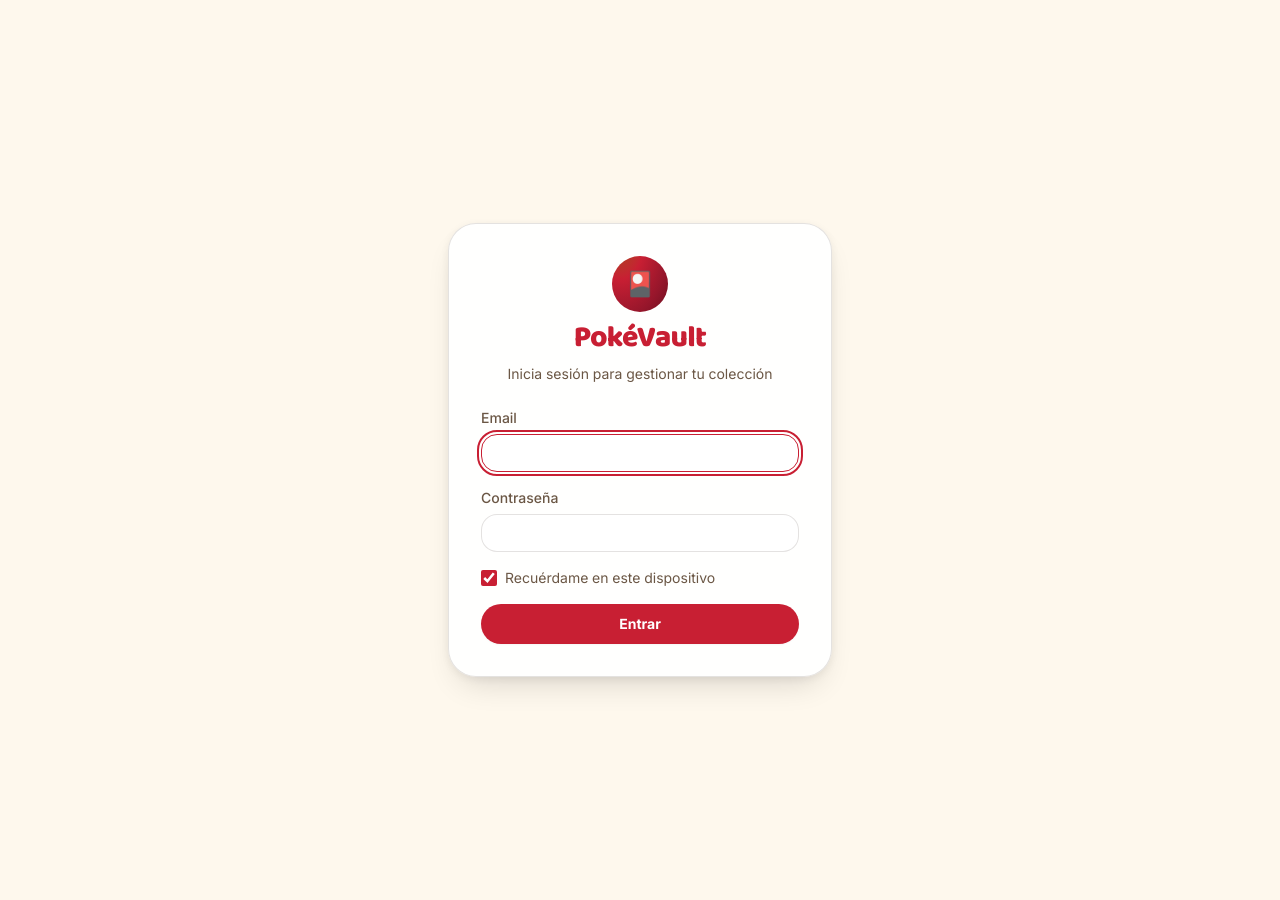
Test: App — puerta de login › iniciar sesión correctamente da paso a la app
Type "jadueno@example.com" into the field labelled "Email" at (640, 453), box top-left (481, 434), bottom-right (799, 472)
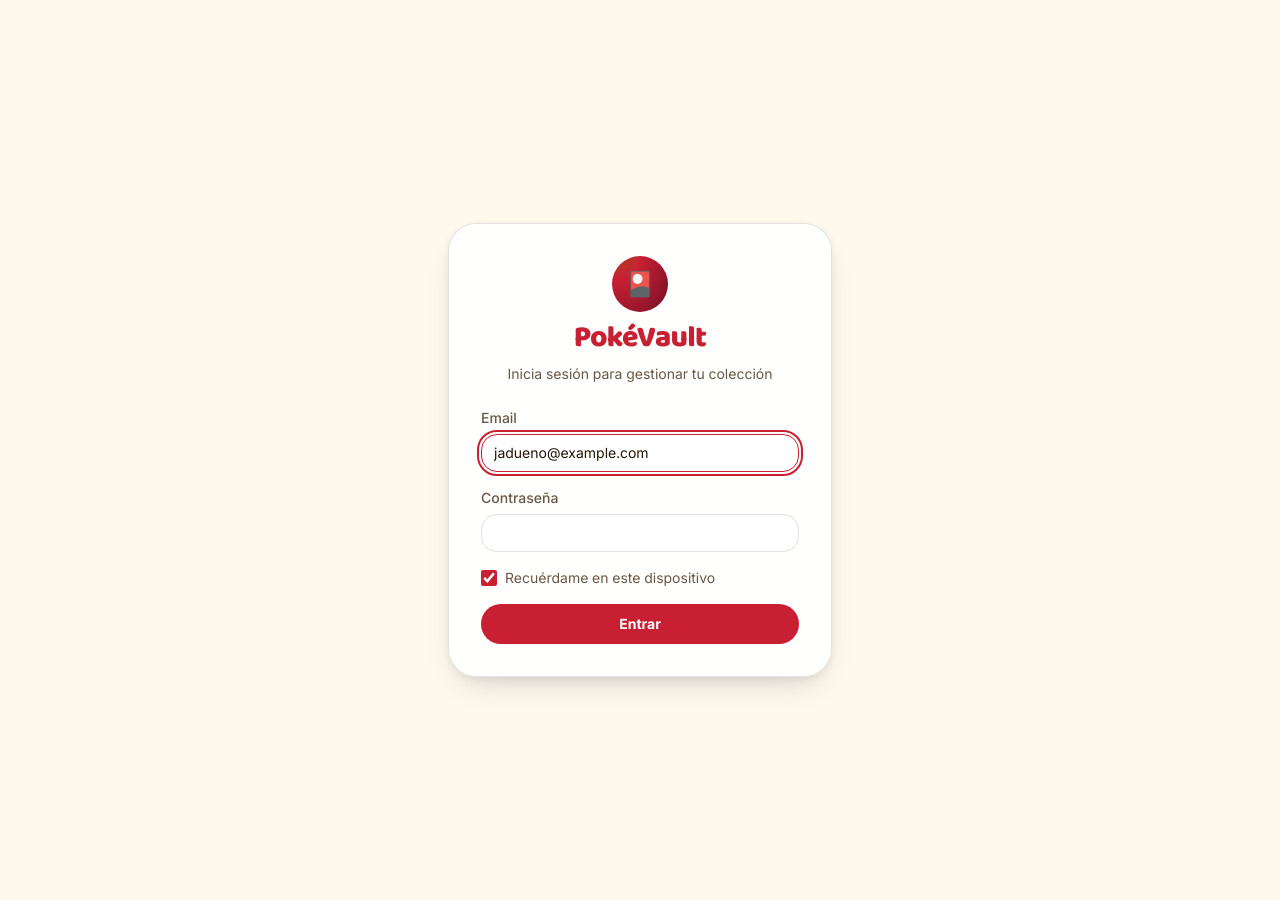
Type "correcta" into the password field labelled "Contraseña" at (640, 533), box top-left (481, 514), bottom-right (799, 552)
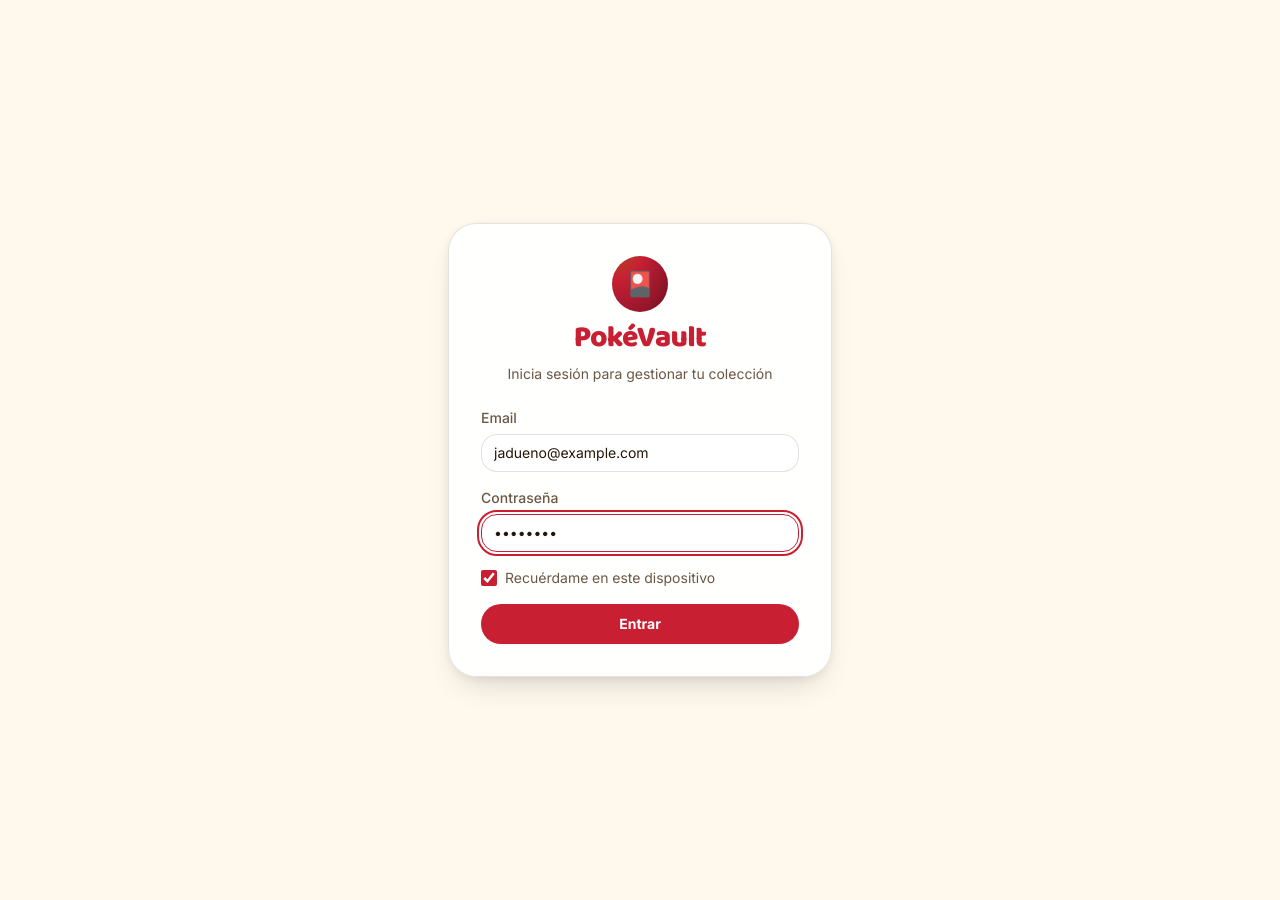
Click the button "Entrar" at (640, 624), box top-left (481, 604), bottom-right (799, 644)
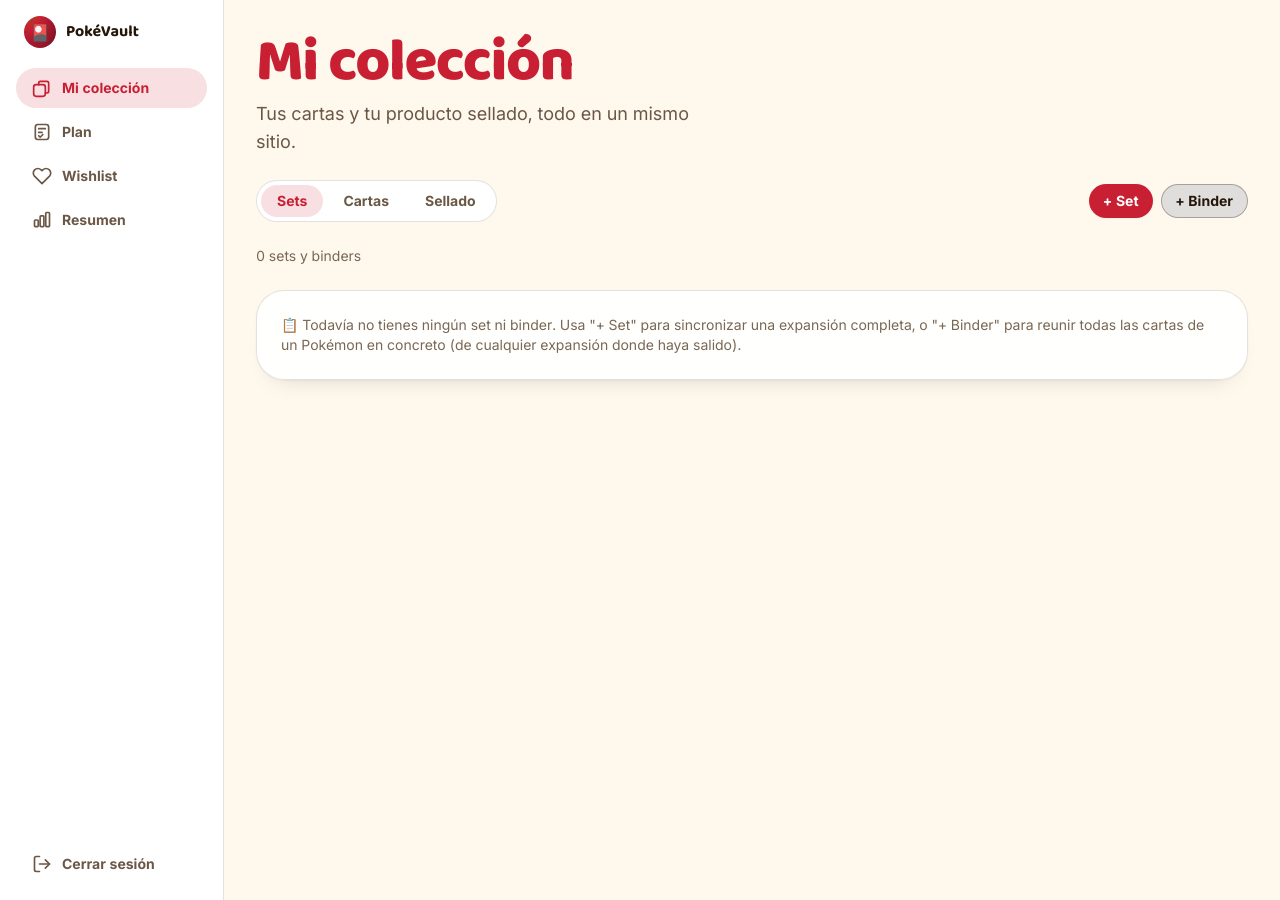
Check: the button "+ Set" is shown, box top-left (1089, 184), bottom-right (1153, 218)
